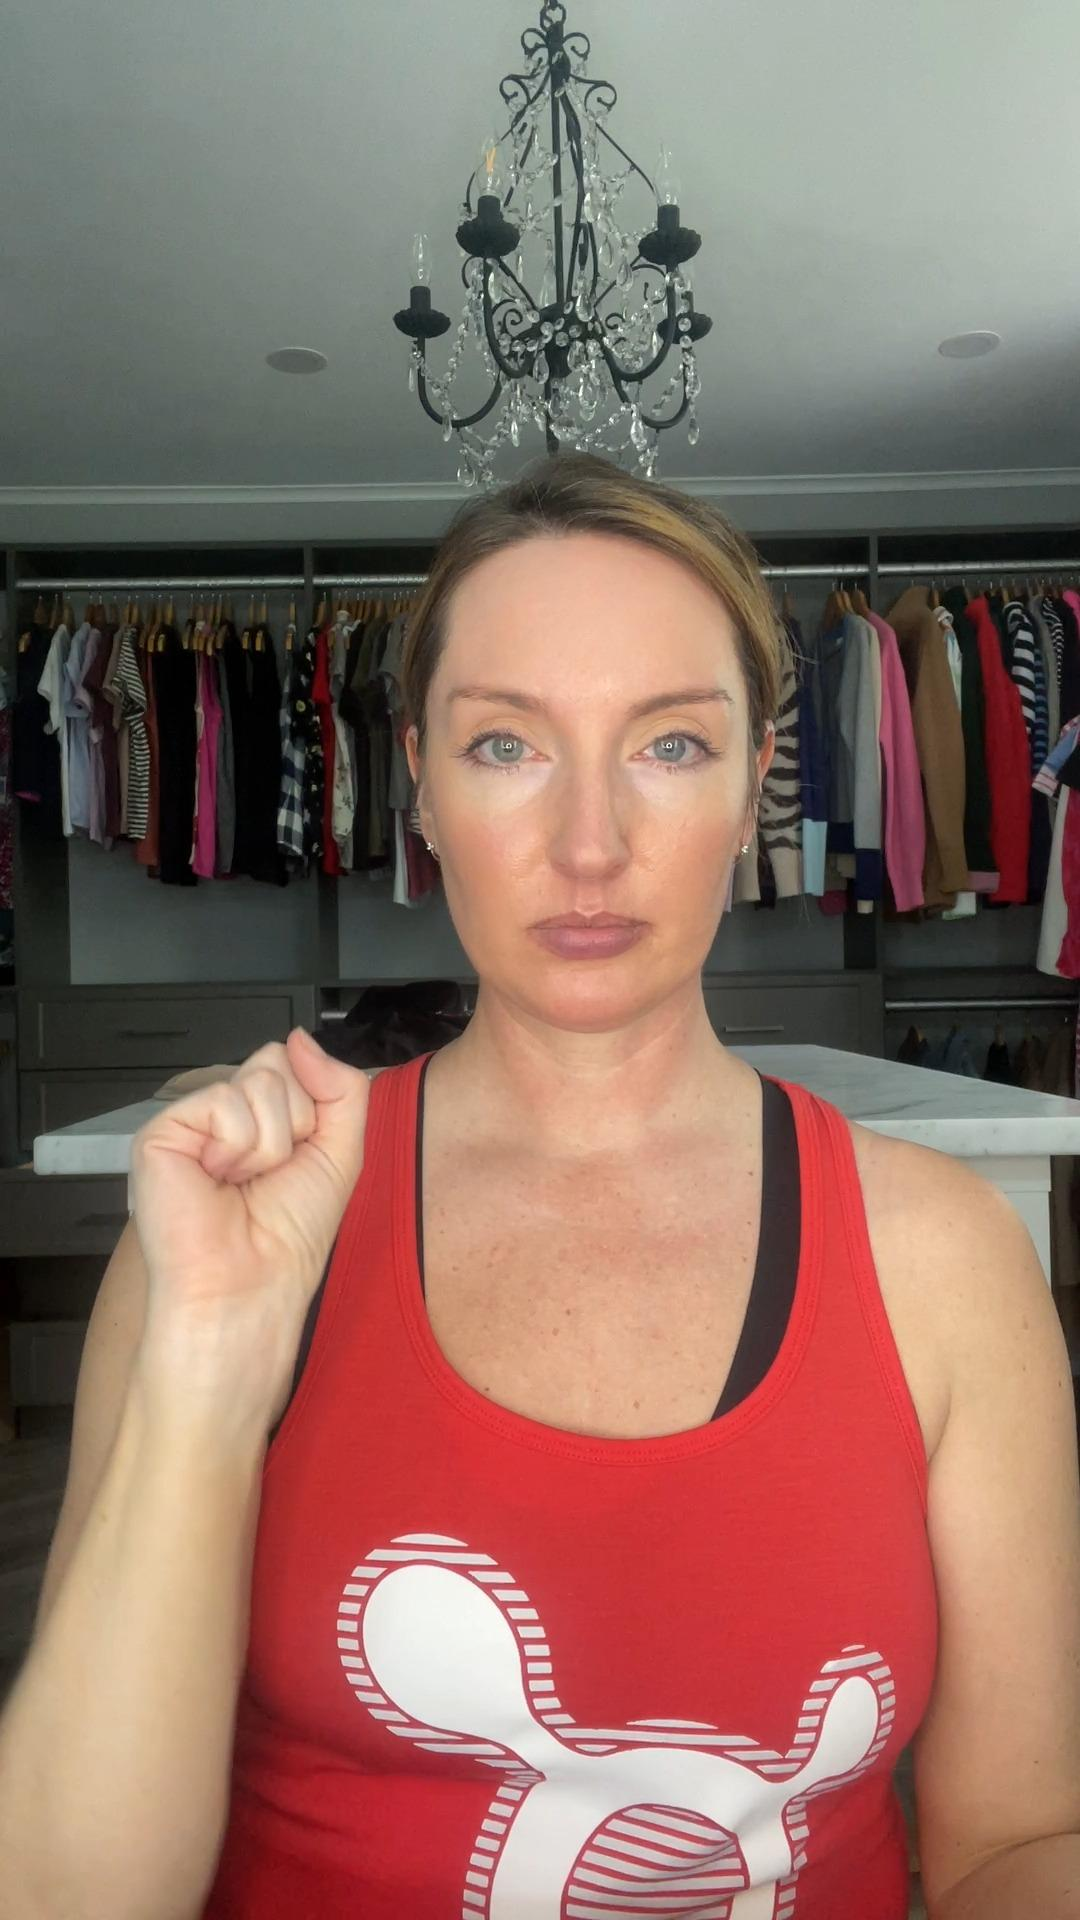Rock: (127, 1030, 369, 1311)
